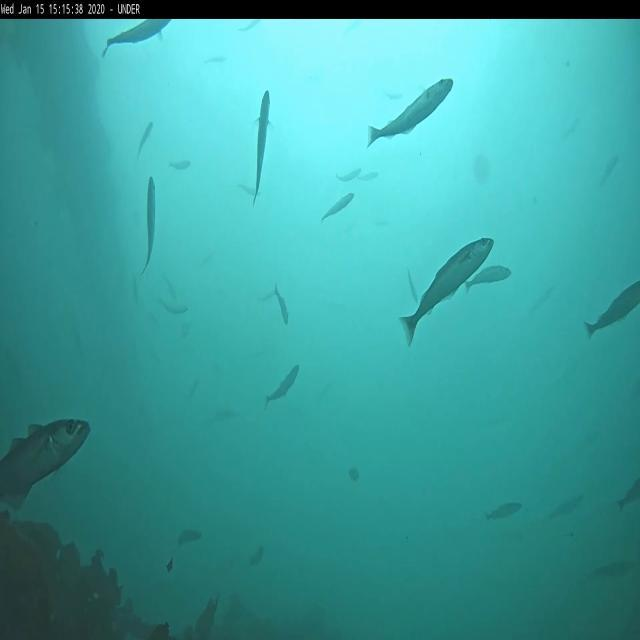fish: (400, 236, 493, 346), (0, 417, 93, 510), (368, 79, 452, 149), (585, 278, 640, 340), (251, 90, 273, 207), (104, 18, 170, 53), (143, 177, 160, 277), (266, 364, 298, 409), (465, 266, 511, 296), (322, 192, 354, 219), (592, 562, 635, 582), (484, 501, 524, 522), (550, 494, 583, 518), (618, 476, 640, 512), (138, 119, 154, 160), (600, 154, 620, 184), (274, 286, 288, 326), (176, 528, 203, 548), (407, 266, 420, 306), (161, 296, 187, 316), (238, 180, 260, 197), (336, 168, 358, 182), (238, 20, 262, 32), (170, 160, 190, 170), (361, 171, 378, 182), (207, 57, 226, 64)
